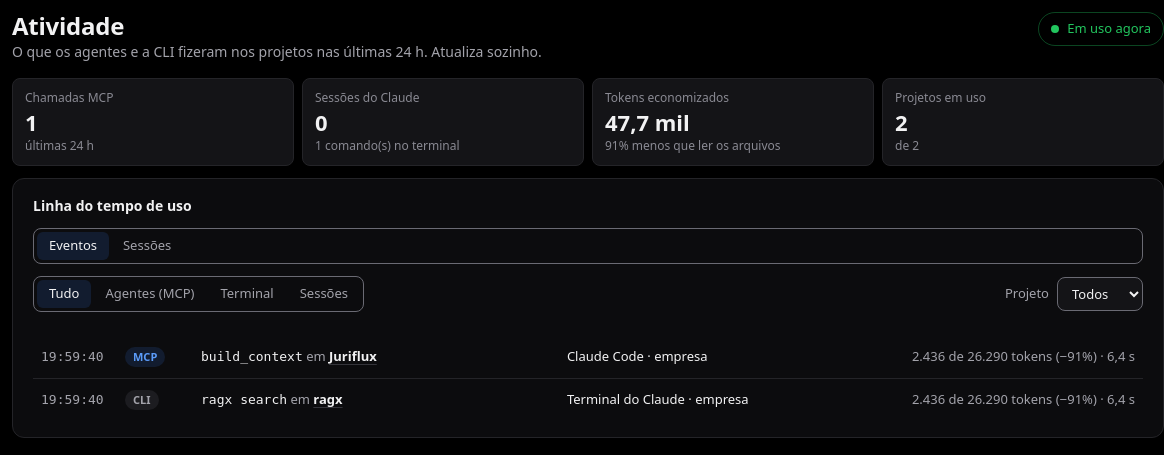
it: ActivityPage › filtra por tipo e por projeto
Click the radio button labelled "Terminal" at [247, 294], box [208,280,286,308]
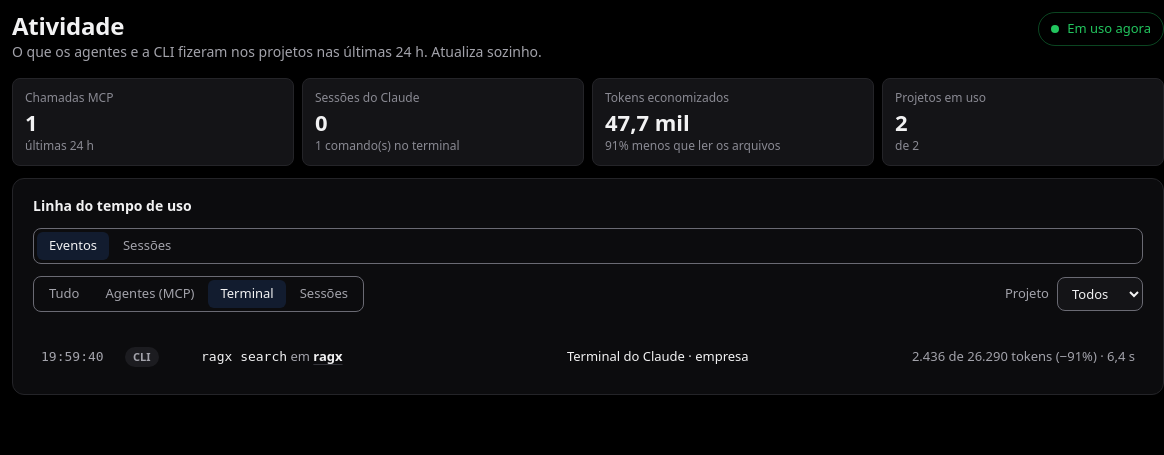
Expected: the text "ragx search" is shown, [201,349,287,364]
Now the number of list items is 1, box [41,345,1135,369]
Click the radio button labelled "Tudo" at [64, 294], box [37,280,92,308]
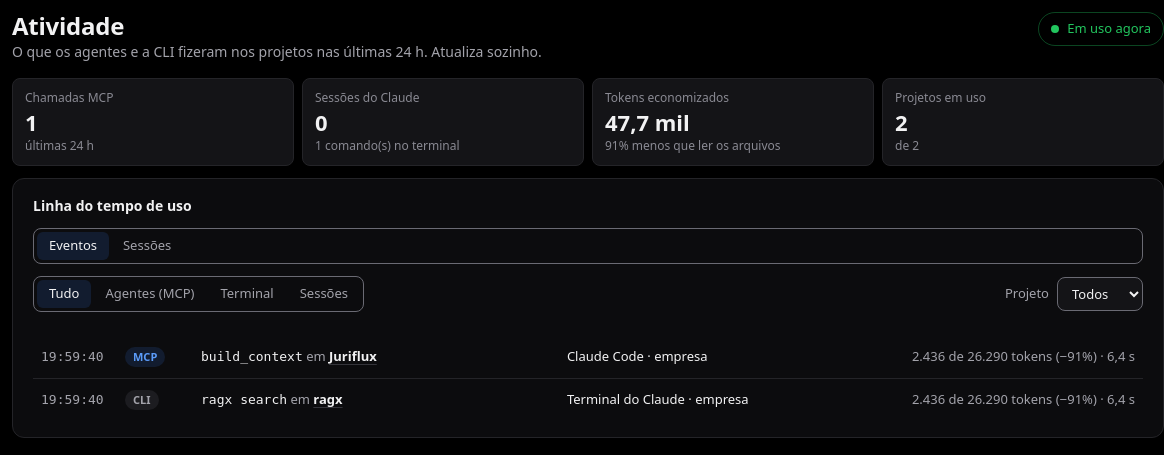
Select "Juriflux" in the dropdown at [1100, 294], box [1057,277,1143,311]
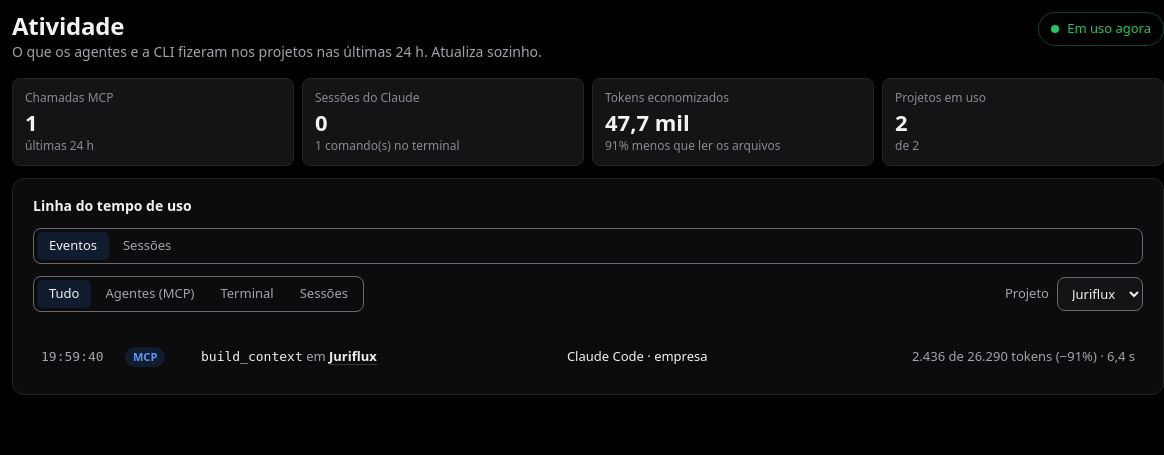
Now the text "build_context" is shown, box [201,349,303,364]
Now the number of list items is 1, box [41,345,1135,369]
